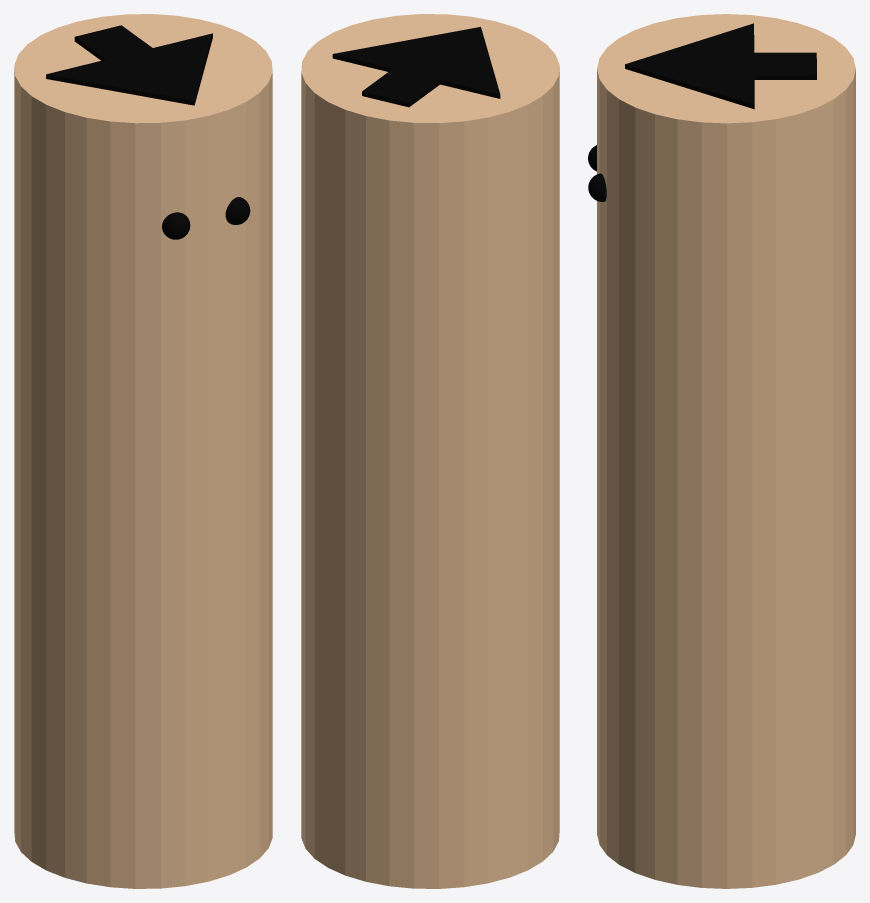
The model's file is 8newb.obj.
The picture shows the model from 3 angles, left to right: view 1: azimuth 30°, elevation 25°; view 2: azimuth 150°, elevation 25°; view 3: azimuth 270°, elevation 25°; orthographic projection.
Visible parts, largest first — view 1: Cylinder.002, Cylinder.003_Cylinder.001_Cylinder.003_Cylinder.002; view 2: Cylinder.002, Cylinder.003_Cylinder.001_Cylinder.003_Cylinder.002; view 3: Cylinder.002, Cylinder.003_Cylinder.001_Cylinder.003_Cylinder.002.
Boxes of the visible parts, x1,y1,x2,y2 form: Cylinder.002: (14,14,272,888); Cylinder.003_Cylinder.001_Cylinder.003_Cylinder.002: (46,25,250,239); Cylinder.002: (301,14,559,888); Cylinder.003_Cylinder.001_Cylinder.003_Cylinder.002: (332,27,500,107); Cylinder.002: (597,14,855,888); Cylinder.003_Cylinder.001_Cylinder.003_Cylinder.002: (588,23,816,201).
Size of the model in its own units: 0.1559 by 0.5117 by 0.1613.
